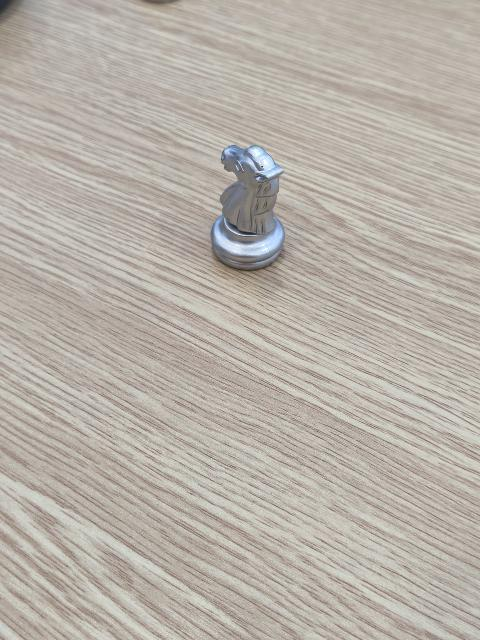white_knight: (213, 143, 286, 270)
